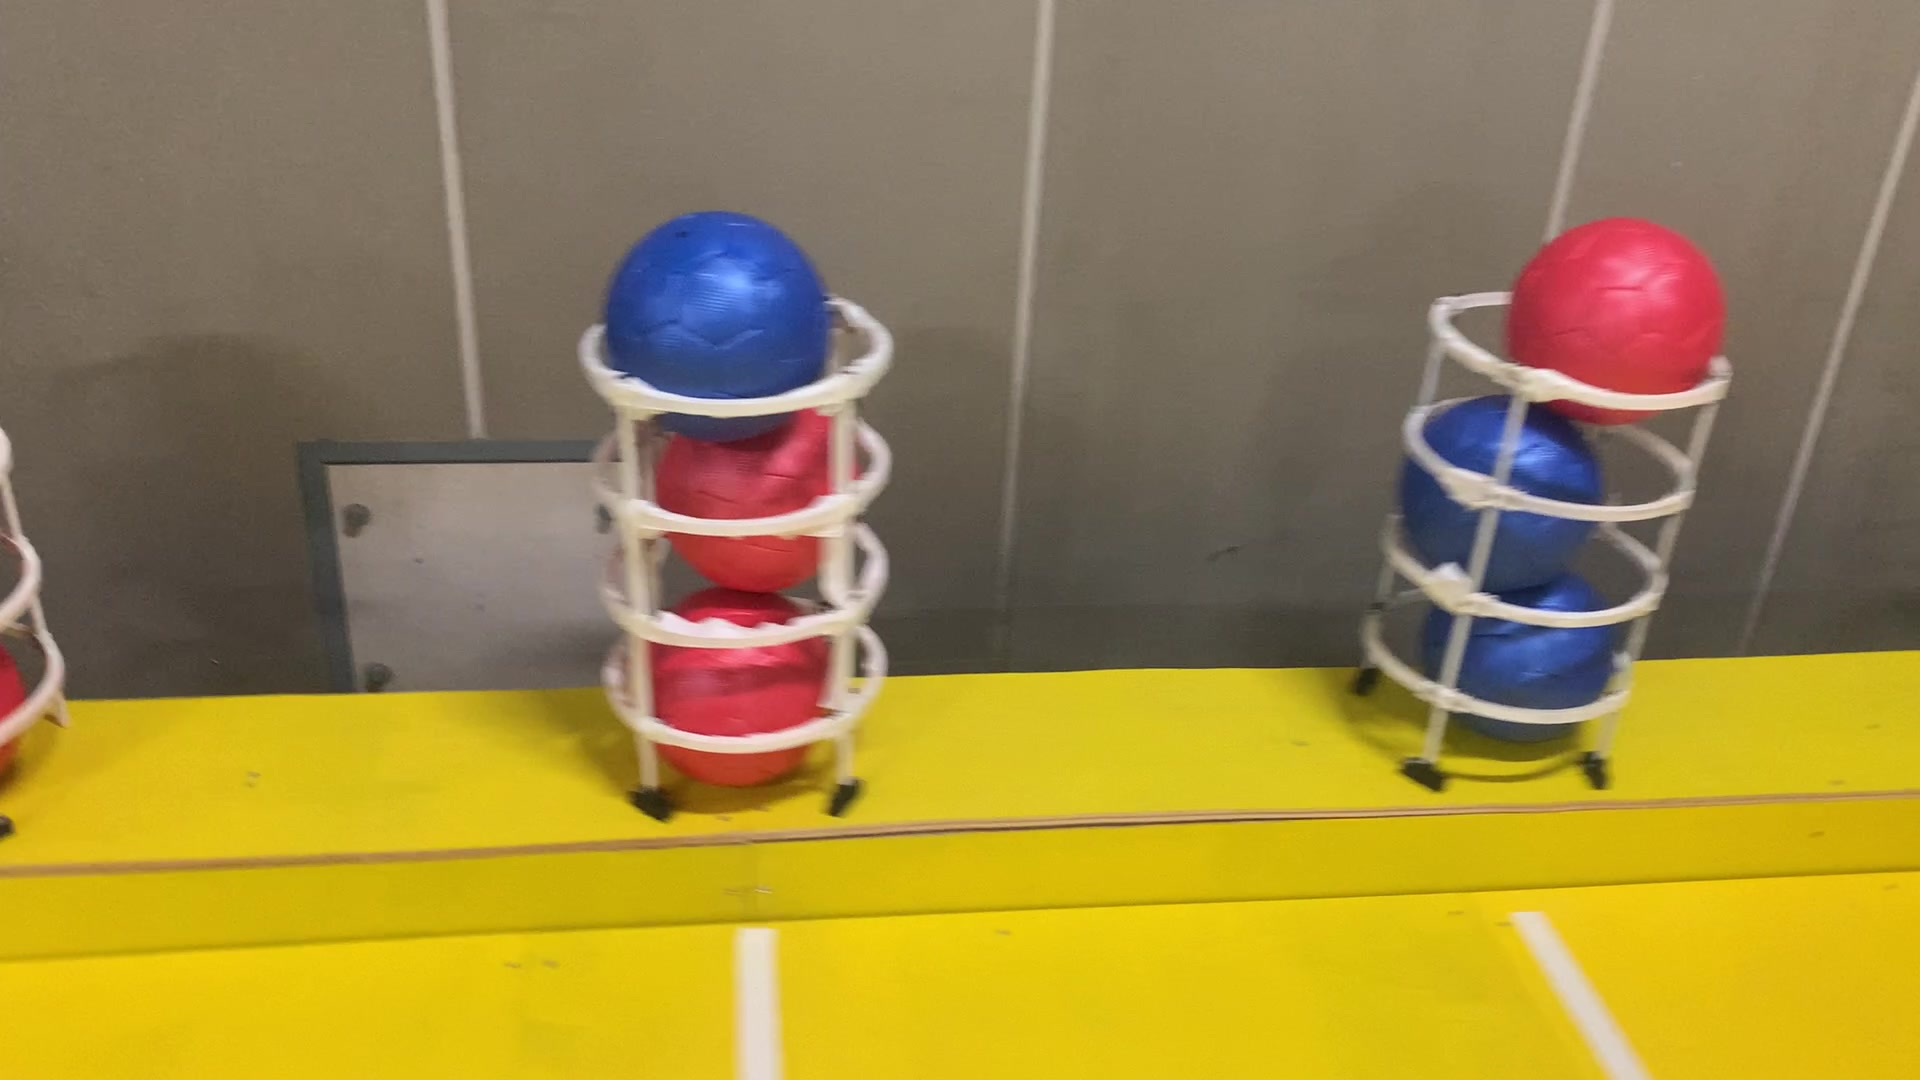blue: (608, 203, 840, 443), (1394, 376, 1600, 589), (1412, 559, 1626, 744)
red: (1510, 214, 1725, 434), (625, 593, 847, 791), (655, 389, 862, 589), (3, 625, 28, 775)
